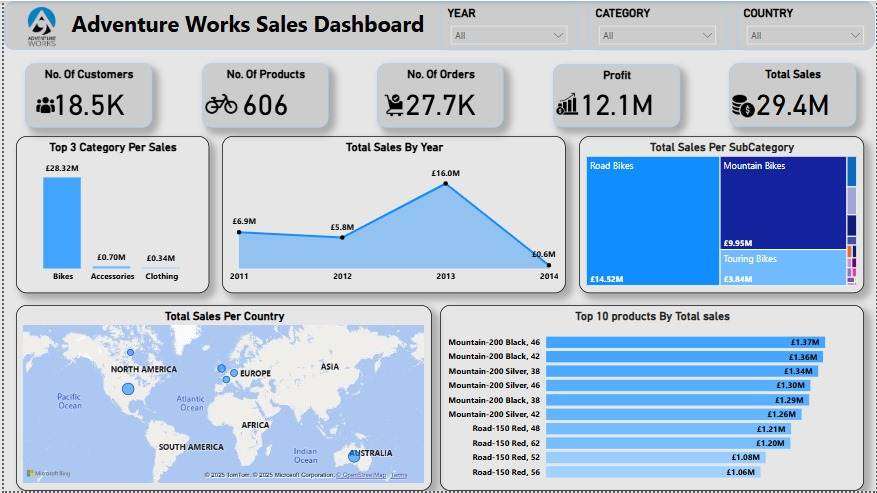

The dashboard page shown, as its layout file describes it:
{"tool":"powerbi","page":{"name":"sales dashboard","canvas":[1280,720],"ordinal":1},"visuals":[{"type":"clusteredBarChart","title":"Top 10 products By Total sales","fields":{"Category":["DimProduct.EnglishProductName"],"Y":["Sum(FactInternetSales.SalesAmount)"]},"box":[640.7,446.7,623,273.3],"z":0},{"type":"card","title":"No. Of Customers","fields":{"Values":["Count(DimCustomer.CustomerKey)"]},"box":[30.9,91,186.7,95],"z":1000,"group":"g5"},{"type":"map","title":"Total Sales Per Country","fields":{"Size":["Sum(FactInternetSales.SalesAmount)"],"Category":["DimSalesTerritory.SalesTerritoryCountry"]},"box":[17.6,446.7,611.3,273.3],"z":1000},{"type":"card","title":"Total Sales","fields":{"Values":["Sum(FactInternetSales.SalesAmount)"]},"box":[1065.3,91.7,186.7,94],"z":2000,"group":"g1"},{"type":"treemap","title":"Total Sales Per SubCategory","fields":{"Values":["Sum(FactInternetSales.SalesAmount)"],"Group":["DimProductSubcategory.EnglishProductSubcategoryName"]},"box":[844.9,198.4,418.8,230.7],"z":2000},{"type":"card","title":"No. Of Orders","fields":{"Values":["Count(FactInternetSales.SalesOrderNumber)"]},"box":[548.4,91.7,186.3,94.6],"z":3000,"group":"g4"},{"type":"lineChart","title":"Total Sales By Year","fields":{"Category":["DimDate.CalendarYear","FactInternetSales.DueDate"],"Y":["Sum(FactInternetSales.SalesAmount)"]},"box":[320.3,198.4,505.5,230.7],"z":3000},{"type":"card","title":"No. Of Products","fields":{"Values":["Count(DimProduct.ProductKey)"]},"box":[290.9,91.7,186,94.6],"z":4000,"group":"g3"},{"type":"columnChart","title":"Top 3 Category Per Sales","fields":{"Category":["DimProductCategory.EnglishProductCategoryName"],"Y":["Sum(FactInternetSales.SalesAmount)"]},"box":[17.6,198.4,283.6,230.7],"z":4000},{"type":"textbox","box":[0,0,1278.4,72],"z":5000},{"type":"slicer","title":"YEAR","fields":{"Values":["DimDate.CalendarYear"]},"box":[640.7,1.5,202.8,70.5],"z":6000},{"type":"slicer","title":"COUNTRY","fields":{"Values":["DimGeography.EnglishCountryRegionName"]},"box":[1075.6,1.5,204.2,70.5],"z":7000},{"type":"slicer","title":"CATEGORY","fields":{"Values":["DimProductCategory.EnglishProductCategoryName"]},"box":[858.1,1.5,204.2,70.5],"z":8000},{"type":"group","id":"g1","title":"Group 1","box":[1065.3,91.7,186.6,94],"z":9000},{"type":"card","title":"Profit","fields":{"Values":["FactInternetSales.profit"]},"box":[806.7,92.4,186.7,93.3],"z":9000,"group":"g2"},{"type":"group","id":"g2","title":"Group 2","box":[806.7,92.4,186.6,92.6],"z":10000},{"type":"group","id":"g3","title":"Group 3","box":[290.9,91.7,185.1,94],"z":11000},{"type":"group","id":"g4","title":"Group 4","box":[548.1,91.7,186.6,94],"z":12000},{"type":"group","id":"g5","title":"Group 5","box":[30.9,91,188.1,95.5],"z":13000},{"type":"image","box":[16.2,1.5,74.9,70.5],"z":14000},{"type":"image","box":[42.6,121,36.7,65],"z":14001,"group":"g5"},{"type":"image","box":[548.1,132.7,50,41.7],"z":14003,"group":"g4"},{"type":"image","box":[291,121.1,56.7,60],"z":14004,"group":"g3"},{"type":"image","box":[807.1,119,41.7,63.3],"z":14005,"group":"g2"},{"type":"image","box":[1065.3,128.4,43.3,53.3],"z":14006,"group":"g1"}]}

Visuals, with their boxes in screenshot pixels (x1, y1, x2, y2), scaled from the page's 1280x720 canvas onto the 877x493 screenshot:
"Top 10 products By Total sales" clusteredBarChart: box=[439, 306, 866, 492]
"No. Of Customers" card: box=[21, 62, 149, 127]
"Total Sales Per Country" map: box=[12, 306, 431, 492]
"Total Sales" card: box=[730, 63, 858, 127]
"Total Sales Per SubCategory" treemap: box=[579, 136, 866, 294]
"No. Of Orders" card: box=[376, 63, 503, 128]
"Total Sales By Year" lineChart: box=[219, 136, 566, 294]
"No. Of Products" card: box=[199, 63, 327, 128]
"Top 3 Category Per Sales" columnChart: box=[12, 136, 206, 294]
textbox: box=[0, 0, 876, 49]
"YEAR" slicer: box=[439, 1, 578, 49]
"COUNTRY" slicer: box=[737, 1, 876, 49]
"CATEGORY" slicer: box=[588, 1, 728, 49]
"Group 1" group: box=[730, 63, 858, 127]
"Profit" card: box=[553, 63, 681, 127]
"Group 2" group: box=[553, 63, 681, 127]
"Group 3" group: box=[199, 63, 326, 127]
"Group 4" group: box=[376, 63, 503, 127]
"Group 5" group: box=[21, 62, 150, 128]
image: box=[11, 1, 62, 49]
image: box=[29, 83, 54, 127]
image: box=[376, 91, 410, 119]
image: box=[199, 83, 238, 124]
image: box=[553, 81, 582, 125]
image: box=[730, 88, 760, 124]
